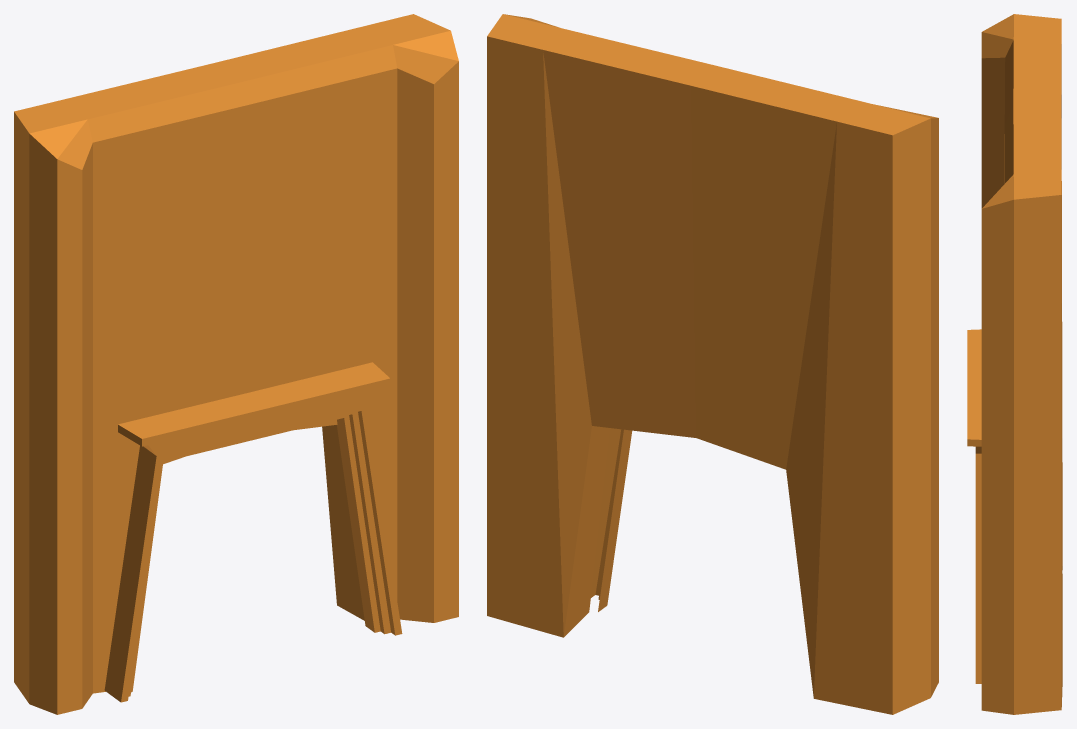
Rendered from Egyptian_doorway1.FBX.
3 renders of one model, left to right at view 1: azimuth 30°, elevation 25°; view 2: azimuth 150°, elevation 25°; view 3: azimuth 270°, elevation 25°, orthographic. The views are drawn at different scales.
Parts seen in each view (by area): view 1: Egyptian_doorway1; view 2: Egyptian_doorway1; view 3: Egyptian_doorway1.
Boxes of the visible parts, left/top/right/bottom form: Egyptian_doorway1: left=14, top=14, right=458, bottom=714; Egyptian_doorway1: left=487, top=14, right=938, bottom=714; Egyptian_doorway1: left=967, top=14, right=1062, bottom=714.
Size of the model in its own units: 519 by 675 by 113.
